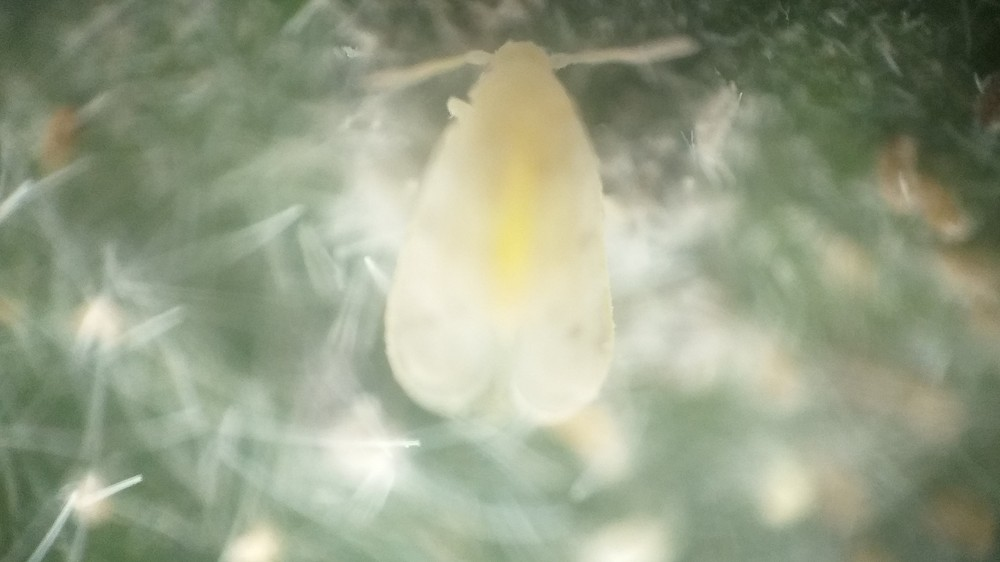Mosca Blanca: (342, 23, 709, 450)
